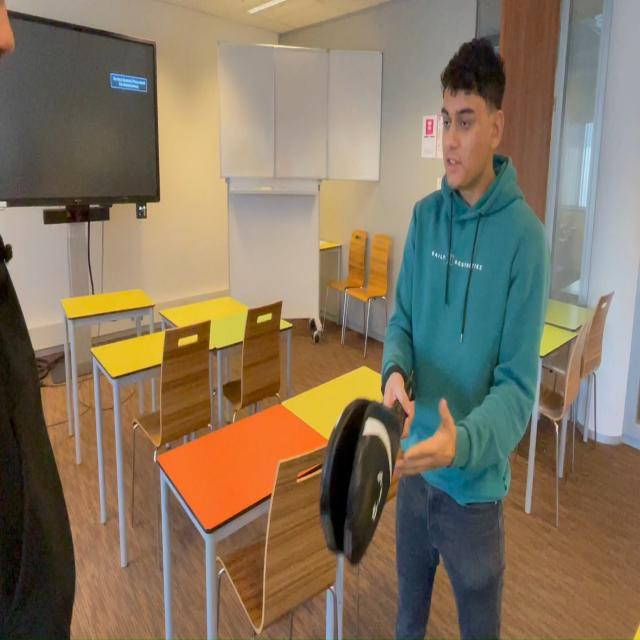paddle: (322, 401, 391, 557)
